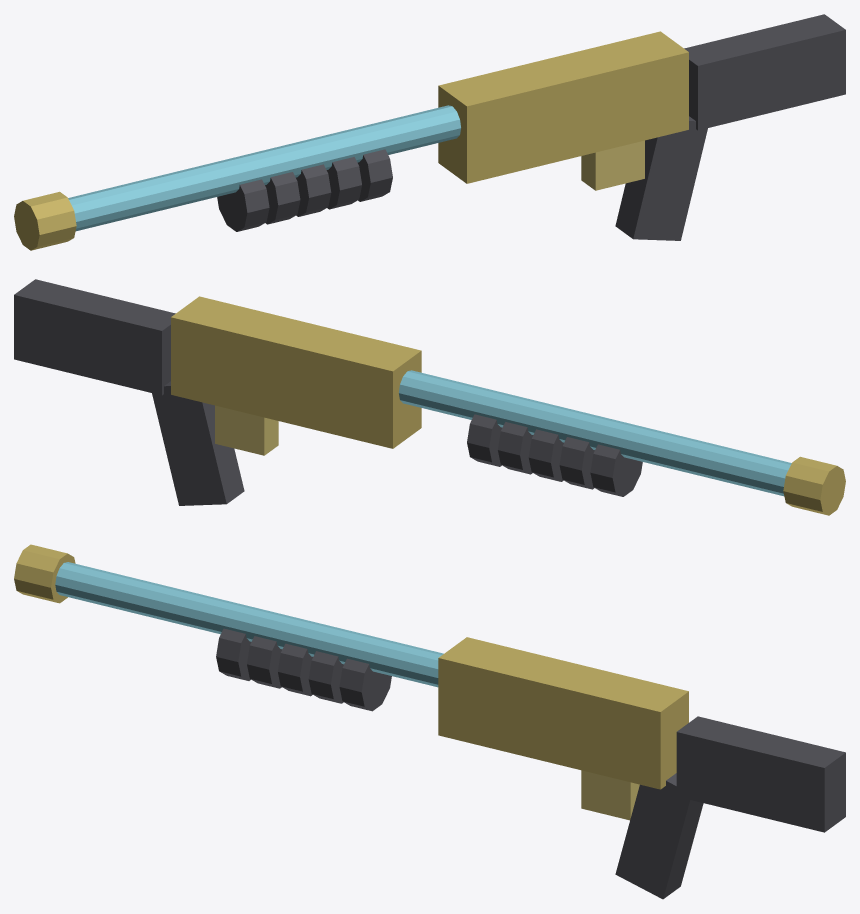
File: buz_pompali.glb
3 views of the same model, one above another, from view 1: azimuth 30°, elevation 25°; view 2: azimuth 150°, elevation 25°; view 3: azimuth 330°, elevation 25° (orthographic).
Visible parts, largest first — view 1: geometry_0; view 2: geometry_0; view 3: geometry_0.
Boxes of the visible parts, x1,y1,x2,y2 form: geometry_0: [14, 14, 845, 250]; geometry_0: [14, 279, 845, 515]; geometry_0: [14, 544, 845, 899].
Size of the model in its own units: 0.655 by 0.1486 by 0.044.
